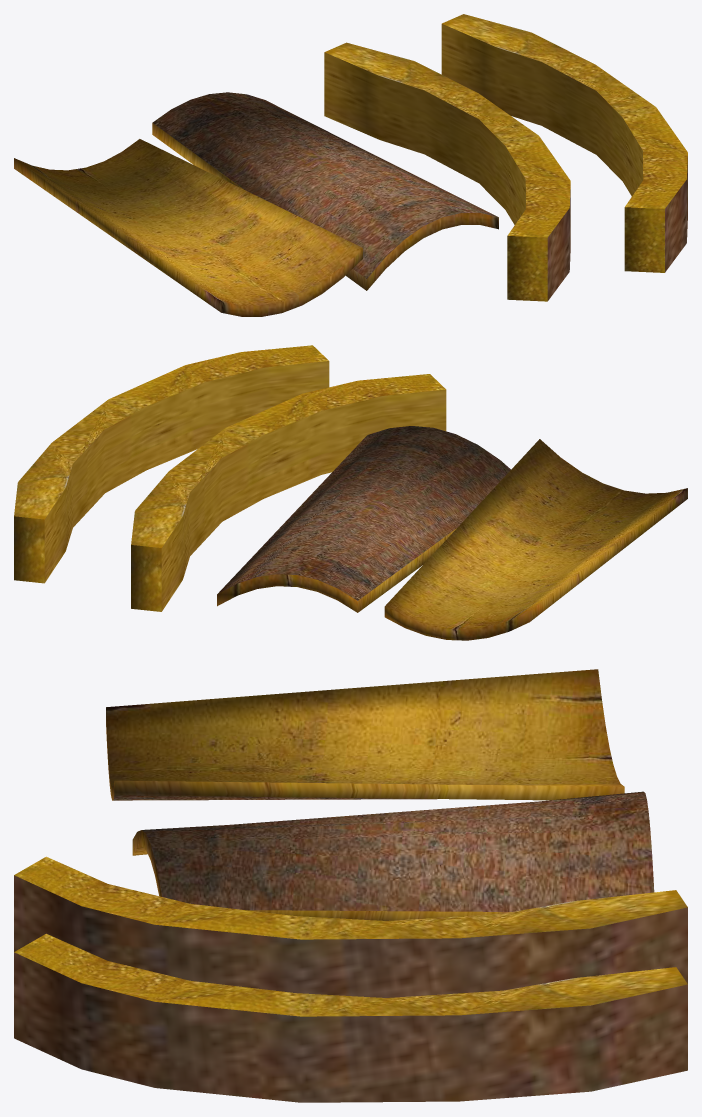
File: huangbai.FBX
The picture shows the model from 3 angles, top to bottom: view 1: azimuth 30°, elevation 25°; view 2: azimuth 150°, elevation 25°; view 3: azimuth 270°, elevation 25°; orthographic projection. The views are drawn at different scales.
Parts seen in each view (by area): view 1: Line001, Line002, Line004, Line003; view 2: Line001, Line002, Line004, Line003; view 3: Line003, Line001, Line004, Line002.
Part boxes in pixels (x1,y1,x2,y2): Line001: (14, 139, 362, 316); Line002: (152, 92, 498, 290); Line004: (324, 42, 570, 301); Line003: (441, 14, 687, 272); Line001: (384, 439, 687, 640); Line002: (217, 426, 510, 612); Line004: (131, 374, 446, 611); Line003: (14, 345, 329, 583); Line003: (14, 933, 687, 1102); Line001: (106, 669, 624, 800); Line004: (14, 856, 687, 997); Line002: (132, 791, 654, 920).
Bounding box in the file's own units: 23.93 × 2.75 × 19.49.
1 material, 1 textured.
